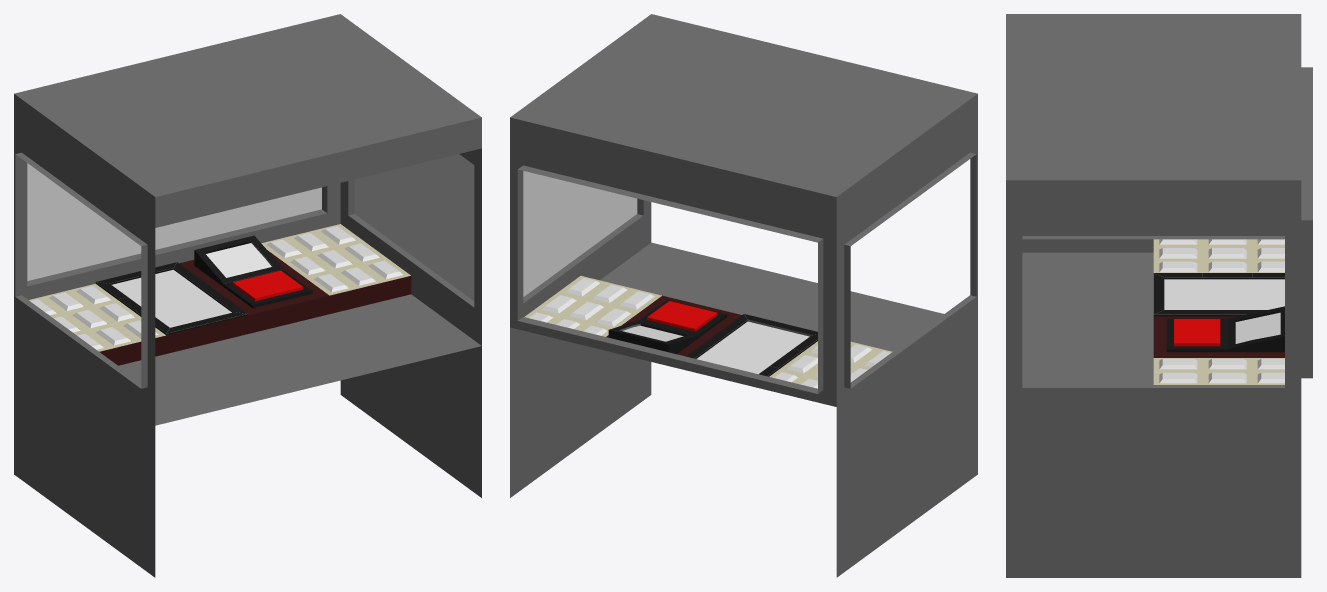
The model's file is HYPERSPACE2.glb.
3 renders of one model, left to right at view 1: azimuth 30°, elevation 25°; view 2: azimuth 150°, elevation 25°; view 3: azimuth 270°, elevation 25°, orthographic. The views are drawn at different scales.
Parts seen in each view (by area): view 1: chasis, windows, screen1, screen2, hyperscape; view 2: chasis, windows, screen1, hyperscape; view 3: chasis, screen1, hyperscape, screen2, buttons.006, buttons.009, buttons.014, buttons.017, buttons.005, buttons.008, buttons.013, buttons.016.
Boxes of the visible parts, x1,y1,x2,y2 form: chasis: [14, 14, 481, 577]; windows: [27, 154, 474, 300]; screen1: [112, 269, 231, 327]; screen2: [206, 243, 271, 277]; hyperscape: [233, 270, 303, 301]; chasis: [510, 14, 977, 577]; windows: [523, 171, 637, 296]; screen1: [697, 321, 809, 374]; hyperscape: [647, 301, 717, 331]; chasis: [1006, 14, 1312, 577]; screen1: [1164, 279, 1284, 309]; hyperscape: [1174, 319, 1220, 346]; screen2: [1235, 312, 1280, 343]; buttons.006: [1208, 261, 1246, 272]; buttons.009: [1159, 261, 1197, 272]; buttons.014: [1208, 372, 1246, 383]; buttons.017: [1159, 372, 1197, 383]; buttons.005: [1208, 248, 1246, 258]; buttons.008: [1159, 248, 1197, 258]; buttons.013: [1208, 359, 1246, 369]; buttons.016: [1159, 359, 1197, 369].
Bounding box in the file's own units: 2.08 × 2.23 × 1.56.
